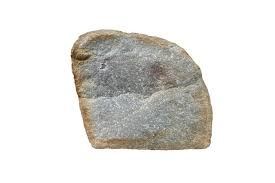obstacle: (71, 30, 211, 148)
